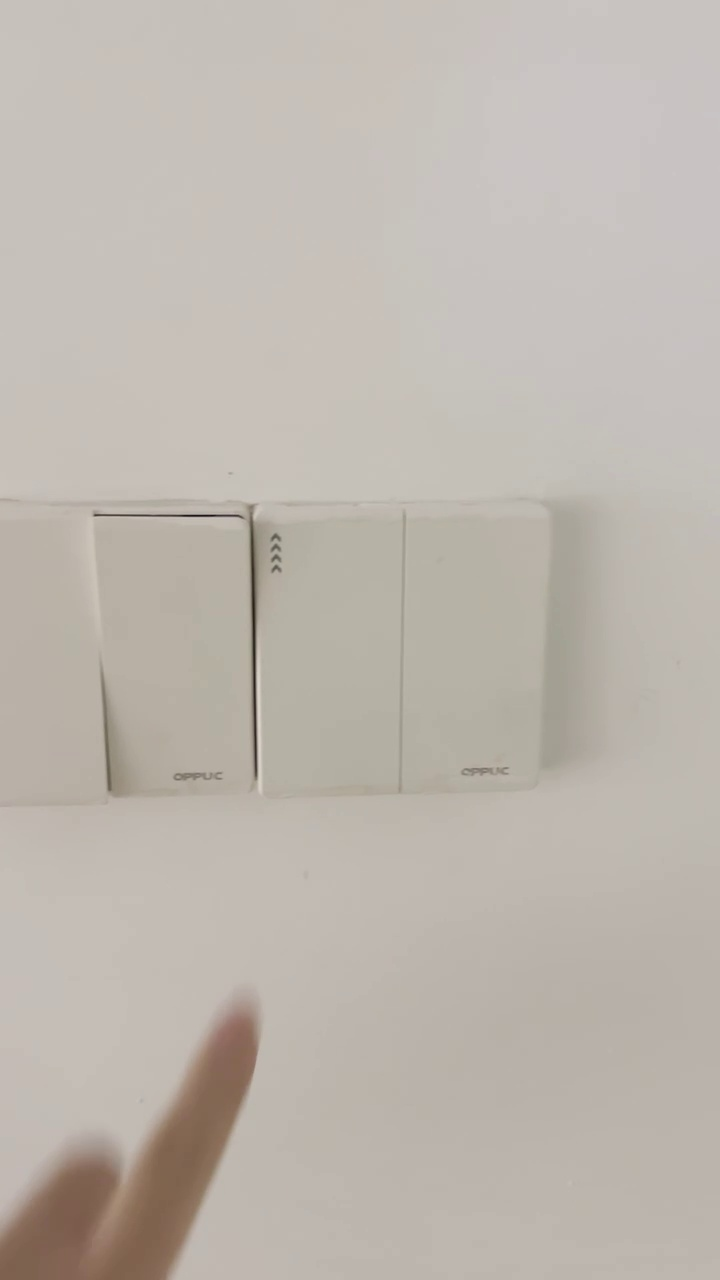button1: (102, 519, 252, 799), (406, 511, 545, 789), (258, 519, 399, 791), (4, 513, 106, 804)
